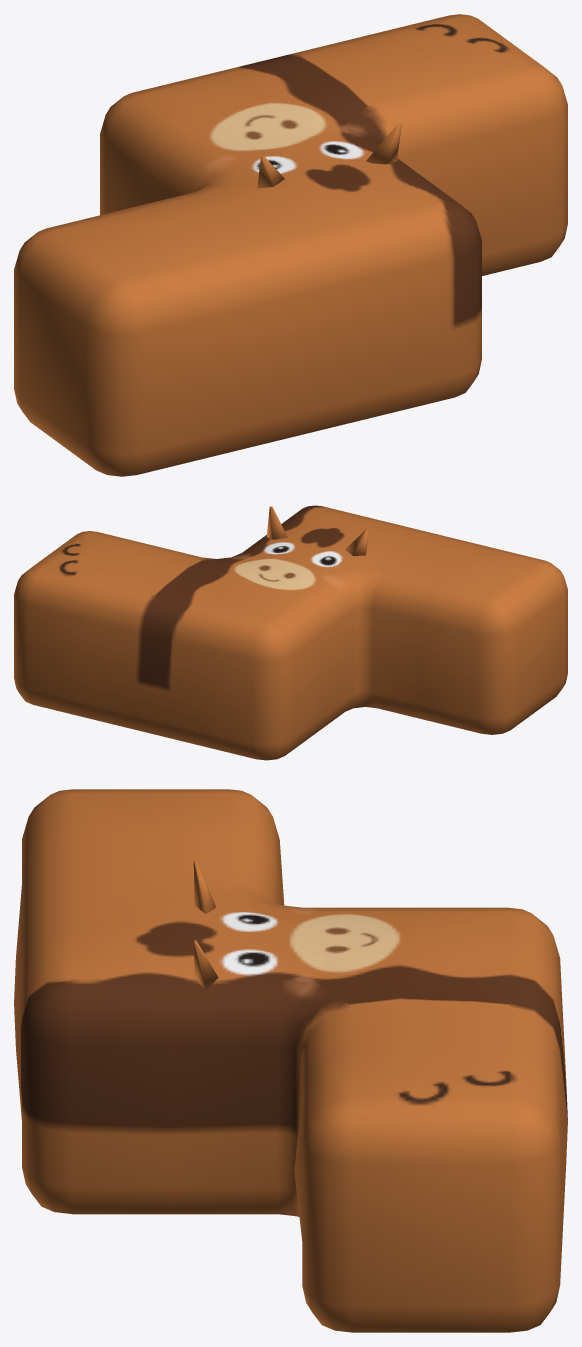
The model's file is Horse_S.fbx.
The picture shows the model from 3 angles, top to bottom: view 1: azimuth 30°, elevation 25°; view 2: azimuth 150°, elevation 25°; view 3: azimuth 270°, elevation 25°; orthographic projection. The views are drawn at different scales.
Parts seen in each view (by area): view 1: Horse_S; view 2: Horse_S; view 3: Horse_S.
Boxes of the visible parts, bbox=[...] form: Horse_S: bbox=[14, 14, 567, 476]; Horse_S: bbox=[14, 505, 567, 760]; Horse_S: bbox=[14, 789, 567, 1332].
Size of the model in its own units: 2.98 by 1.04 by 1.98.
1 material, 1 textured.
